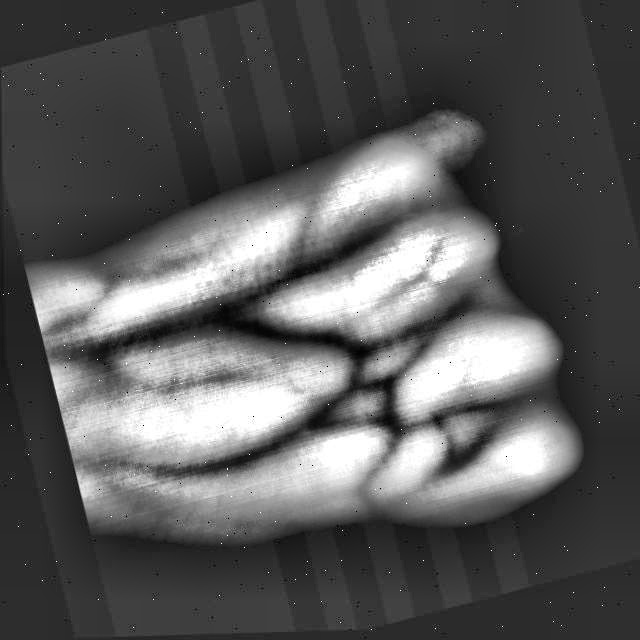Vein: (125, 249, 336, 357), (125, 420, 299, 496)
